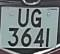1: (45, 27, 52, 49)
3: (6, 27, 22, 49)
4: (33, 27, 46, 49)
6: (20, 28, 34, 49)
G: (30, 7, 44, 28)
U: (15, 8, 31, 27)
